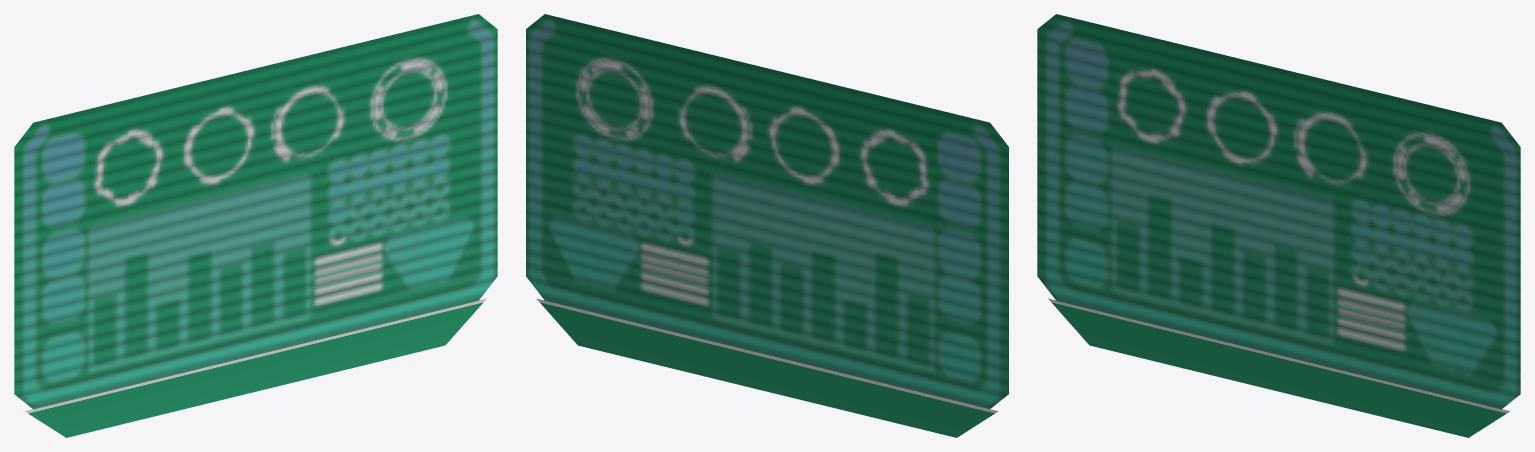
The model's file is Terminal_016_monitor_002.fbx.
The picture shows the model from 3 angles, left to right: view 1: azimuth 30°, elevation 25°; view 2: azimuth 150°, elevation 25°; view 3: azimuth 330°, elevation 25°; orthographic projection.
Parts seen in each view (by area): view 1: Terminal_016_monitor_002; view 2: Terminal_016_monitor_002; view 3: Terminal_016_monitor_002.
Boxes of the visible parts, <box> form: Terminal_016_monitor_002: <box>14,14,497,437</box>; Terminal_016_monitor_002: <box>526,14,1008,437</box>; Terminal_016_monitor_002: <box>1037,14,1520,437</box>.
Size of the model in its own units: 82.63 by 0.0298 by 52.87.
